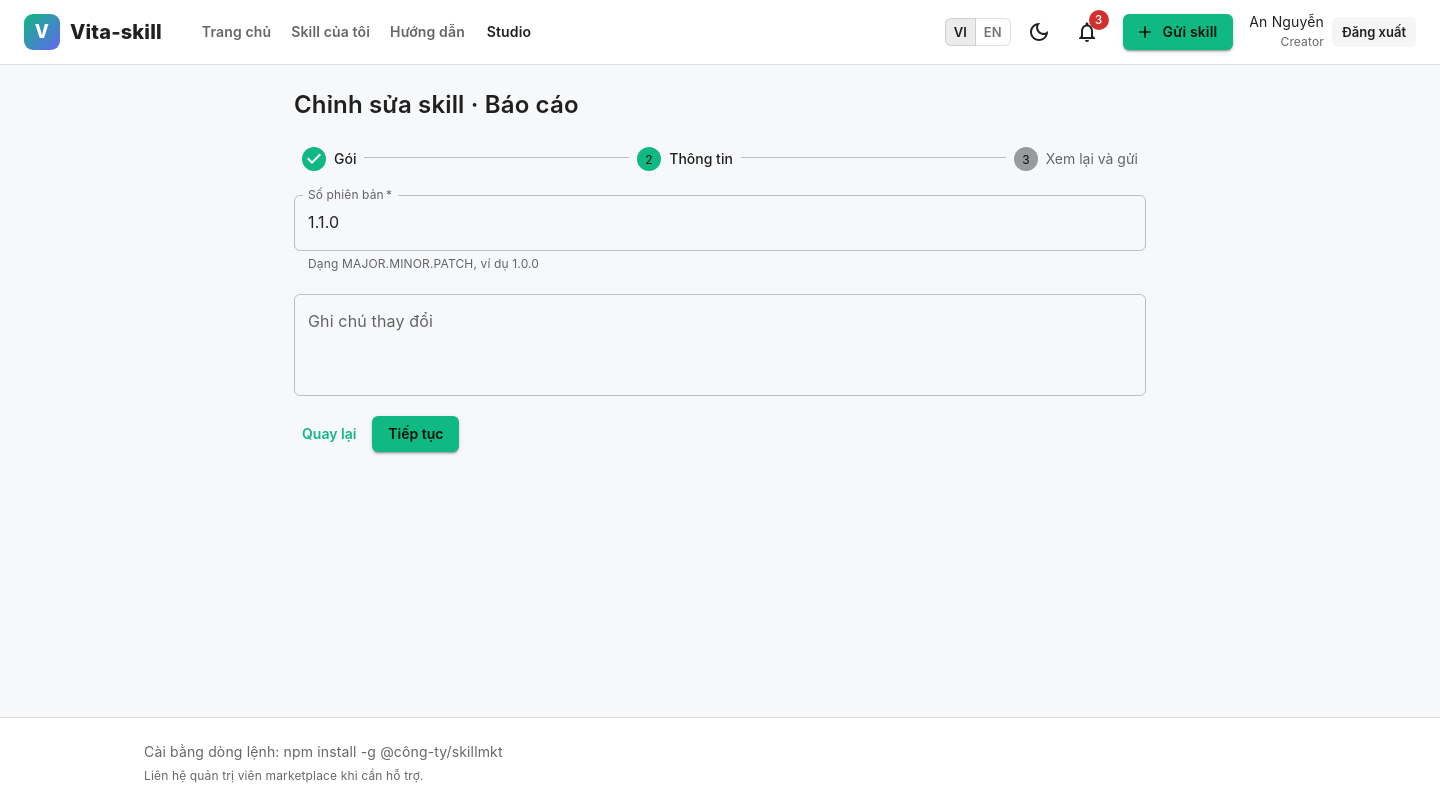
Test: Wizard › bước 2: số phiên bản không lớn hơn bản đã đăng bị chặn ngay trên form
This screenshot has width=1440, height=810.
Replace the text in the field labelled "Số phiên bản *" with "1.0.0" at (720,223), box [294, 195, 1146, 251]
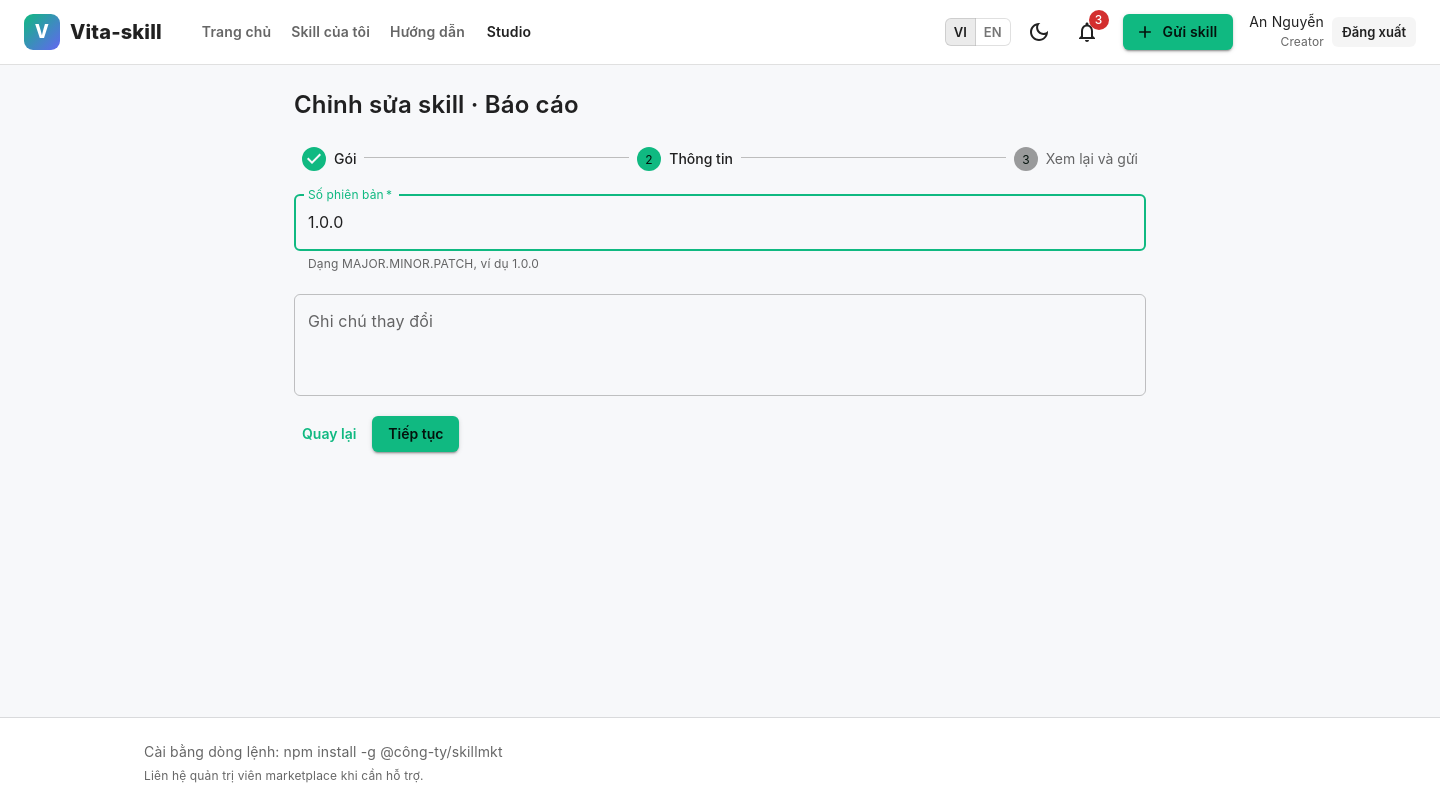
Click the button "Tiếp tục" at (416,434), box [372, 416, 459, 452]
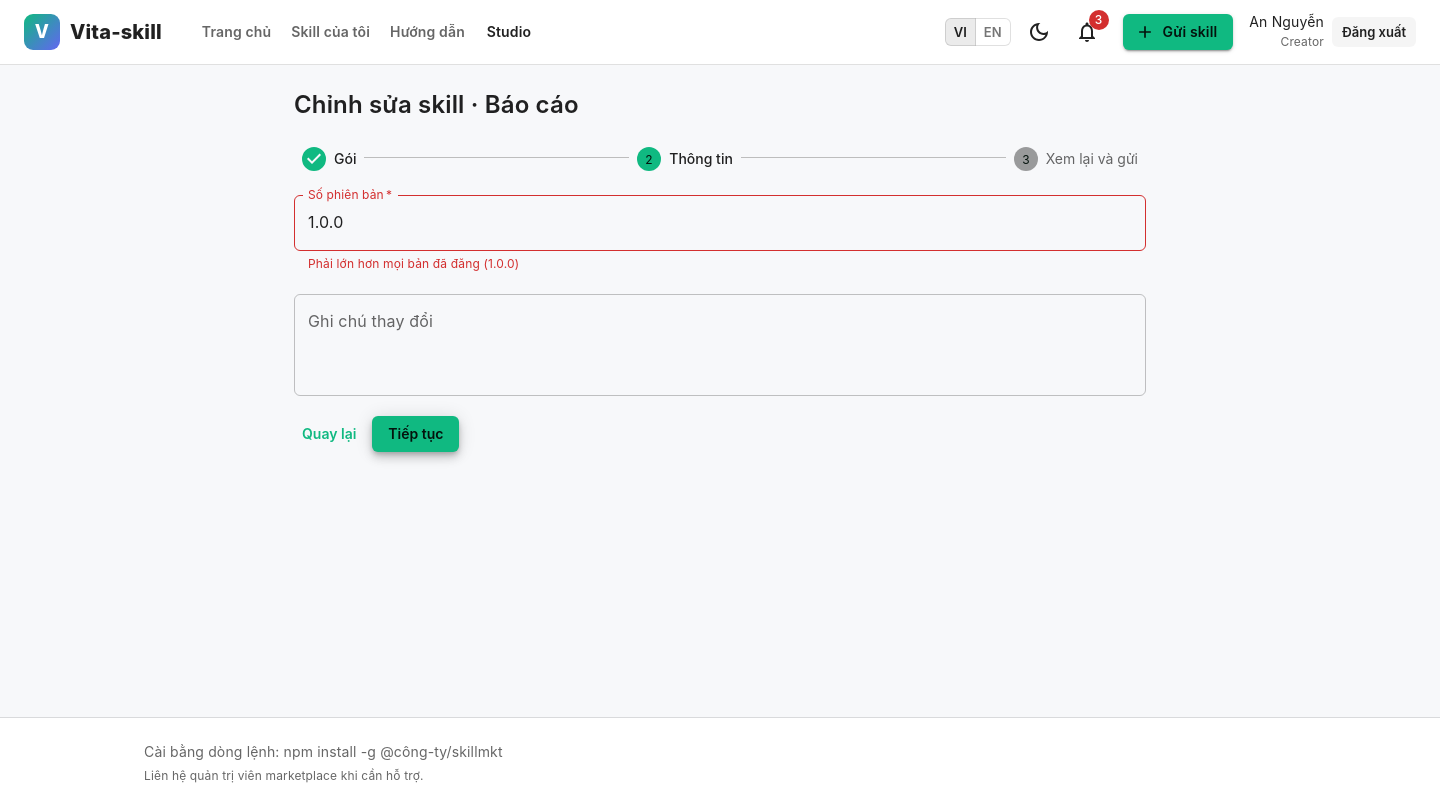
Now the text "Phải lớn hơn mọi bản đã đăng (1.0.0)" is shown, box [308, 256, 519, 271]
